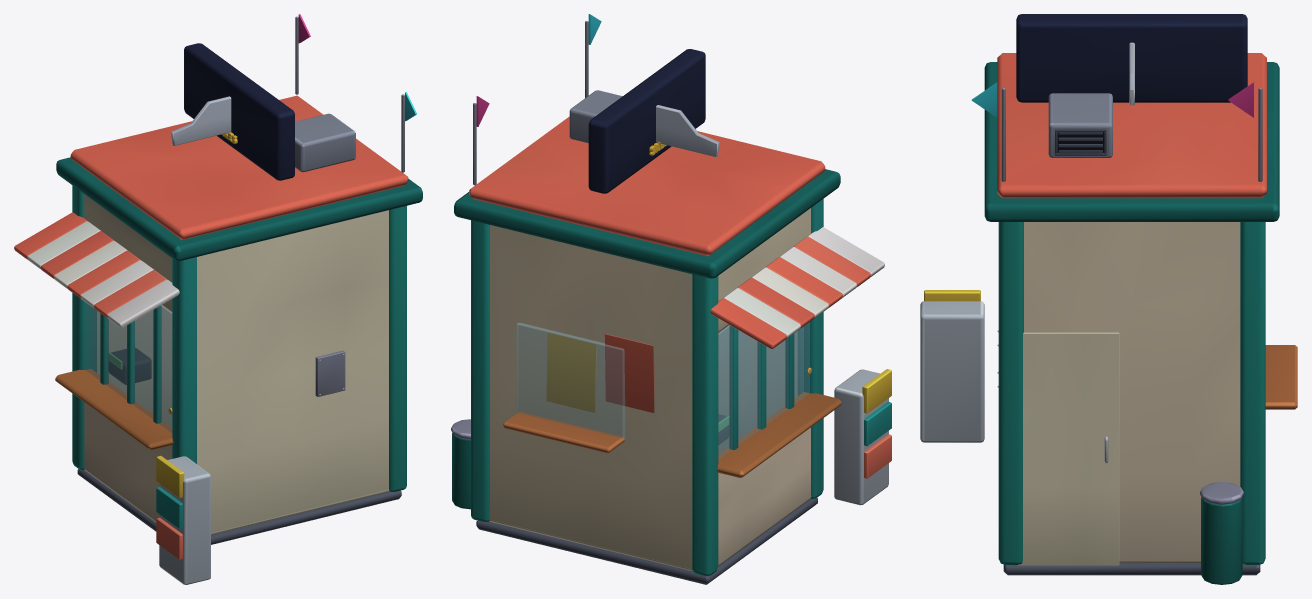
The model's file is SM_Dealer_SalesKiosk.fbx.
The picture shows the model from 3 angles, left to right: view 1: azimuth 30°, elevation 25°; view 2: azimuth 150°, elevation 25°; view 3: azimuth 270°, elevation 25°; orthographic projection. The views are drawn at different scales.
Visible parts, largest first — view 1: SM_Dealer_SalesKiosk; view 2: SM_Dealer_SalesKiosk; view 3: SM_Dealer_SalesKiosk.
Boxes of the visible parts, left/top/right/bottom form: SM_Dealer_SalesKiosk: left=14, top=14, right=422, bottom=584; SM_Dealer_SalesKiosk: left=451, top=14, right=891, bottom=584; SM_Dealer_SalesKiosk: left=920, top=14, right=1297, bottom=584.
Size of the model in its own units: 347 by 425 by 294.
